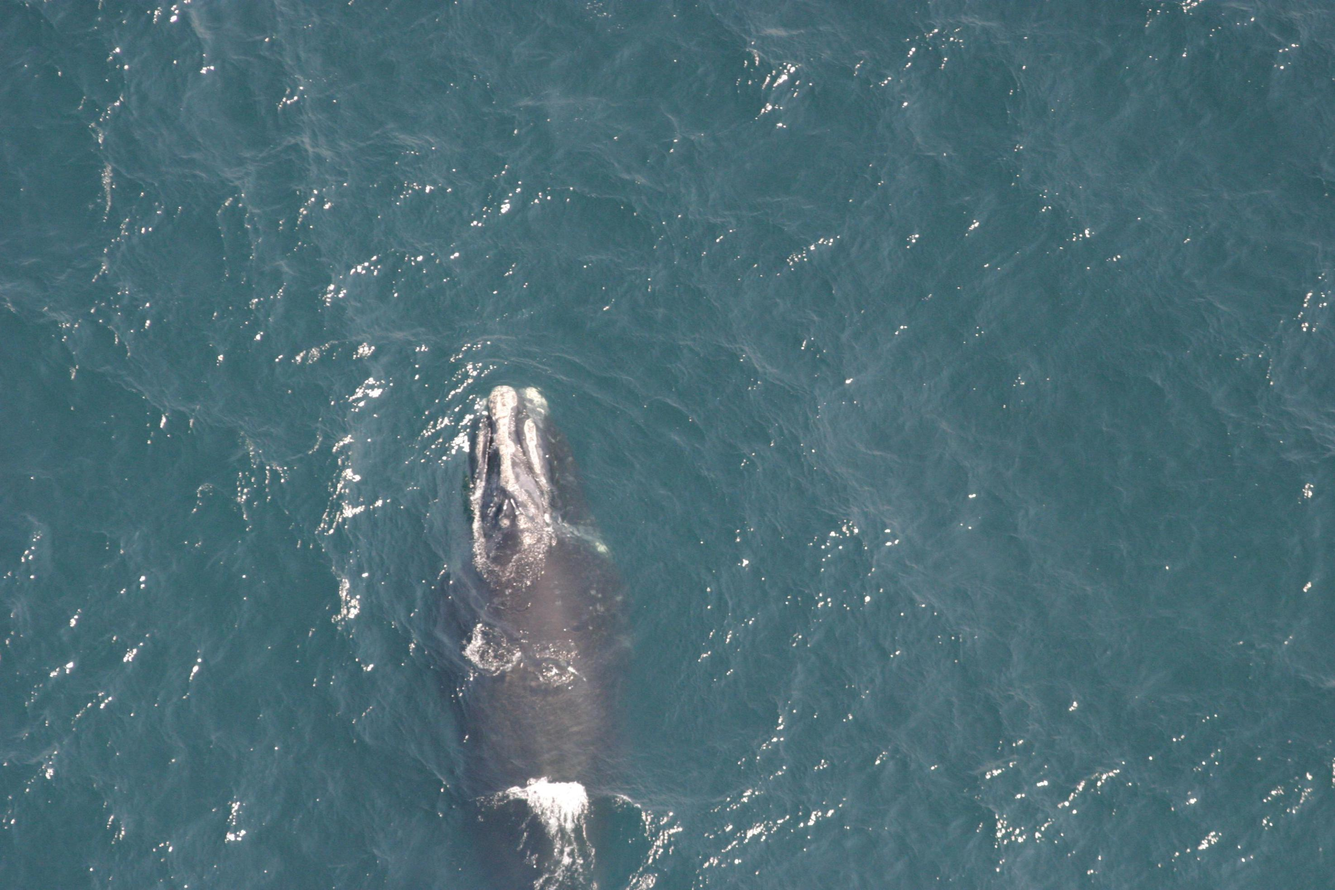whale: (404, 374, 659, 890)
